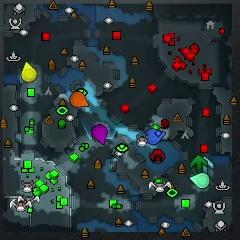p1: (145, 129, 166, 146)
p2: (190, 173, 209, 189)
p3: (91, 124, 108, 145)
p4: (21, 62, 37, 82)
p5: (70, 91, 89, 107)
x3: (202, 156, 213, 175)
x4: (190, 155, 207, 173)
